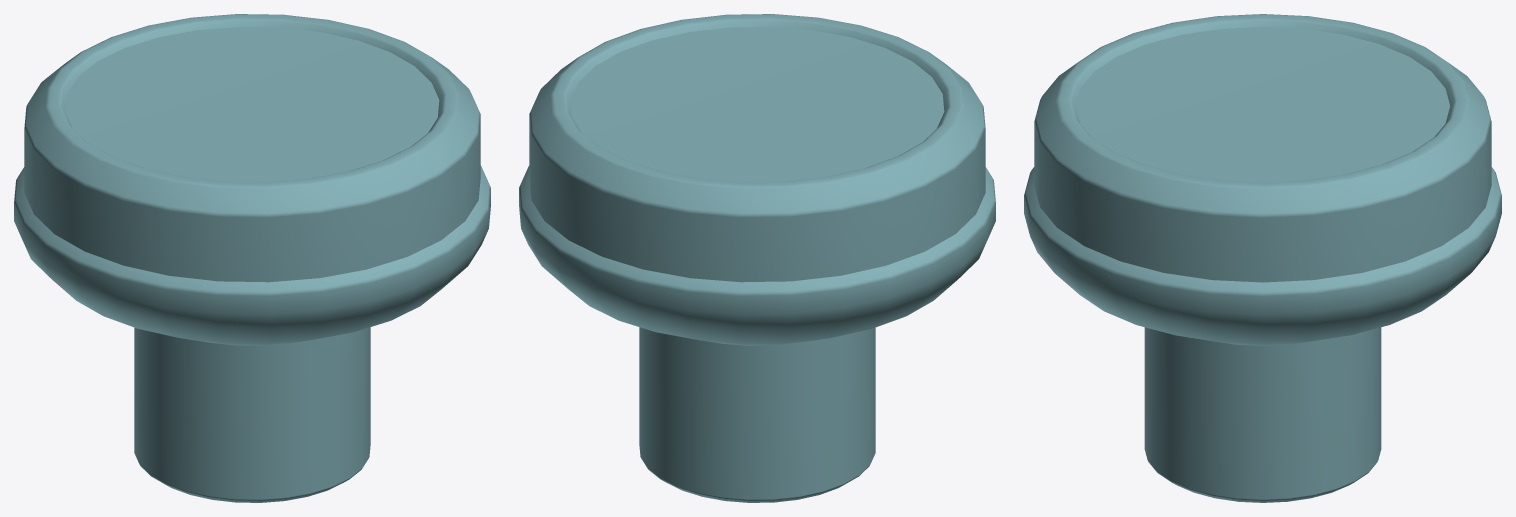
File: table_teleport_modul.fbx
The picture shows the model from 3 angles, left to right: view 1: azimuth 30°, elevation 25°; view 2: azimuth 150°, elevation 25°; view 3: azimuth 270°, elevation 25°; orthographic projection.
Visible parts, largest first — view 1: table_teleport_modul; view 2: table_teleport_modul; view 3: table_teleport_modul.
Part boxes in pixels (box(x1,y1,x2,y2)): table_teleport_modul: box(14, 14, 490, 502); table_teleport_modul: box(519, 14, 995, 502); table_teleport_modul: box(1024, 14, 1501, 502).
Size of the model in its own units: 165 by 136 by 165.
